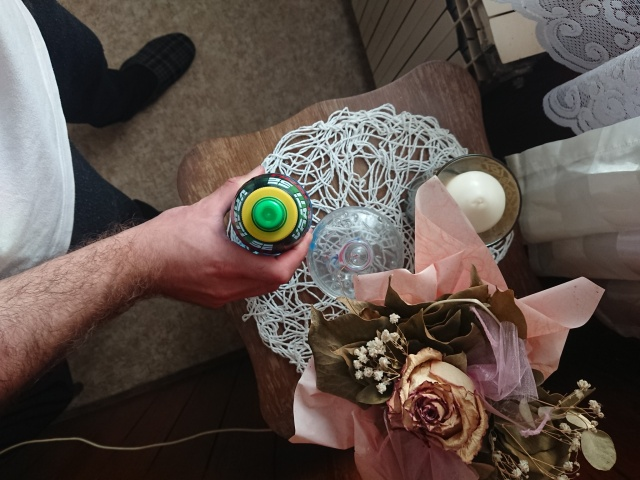Vindi Iso Sport Forest Strawberries 500mL: (228, 170, 314, 257)
